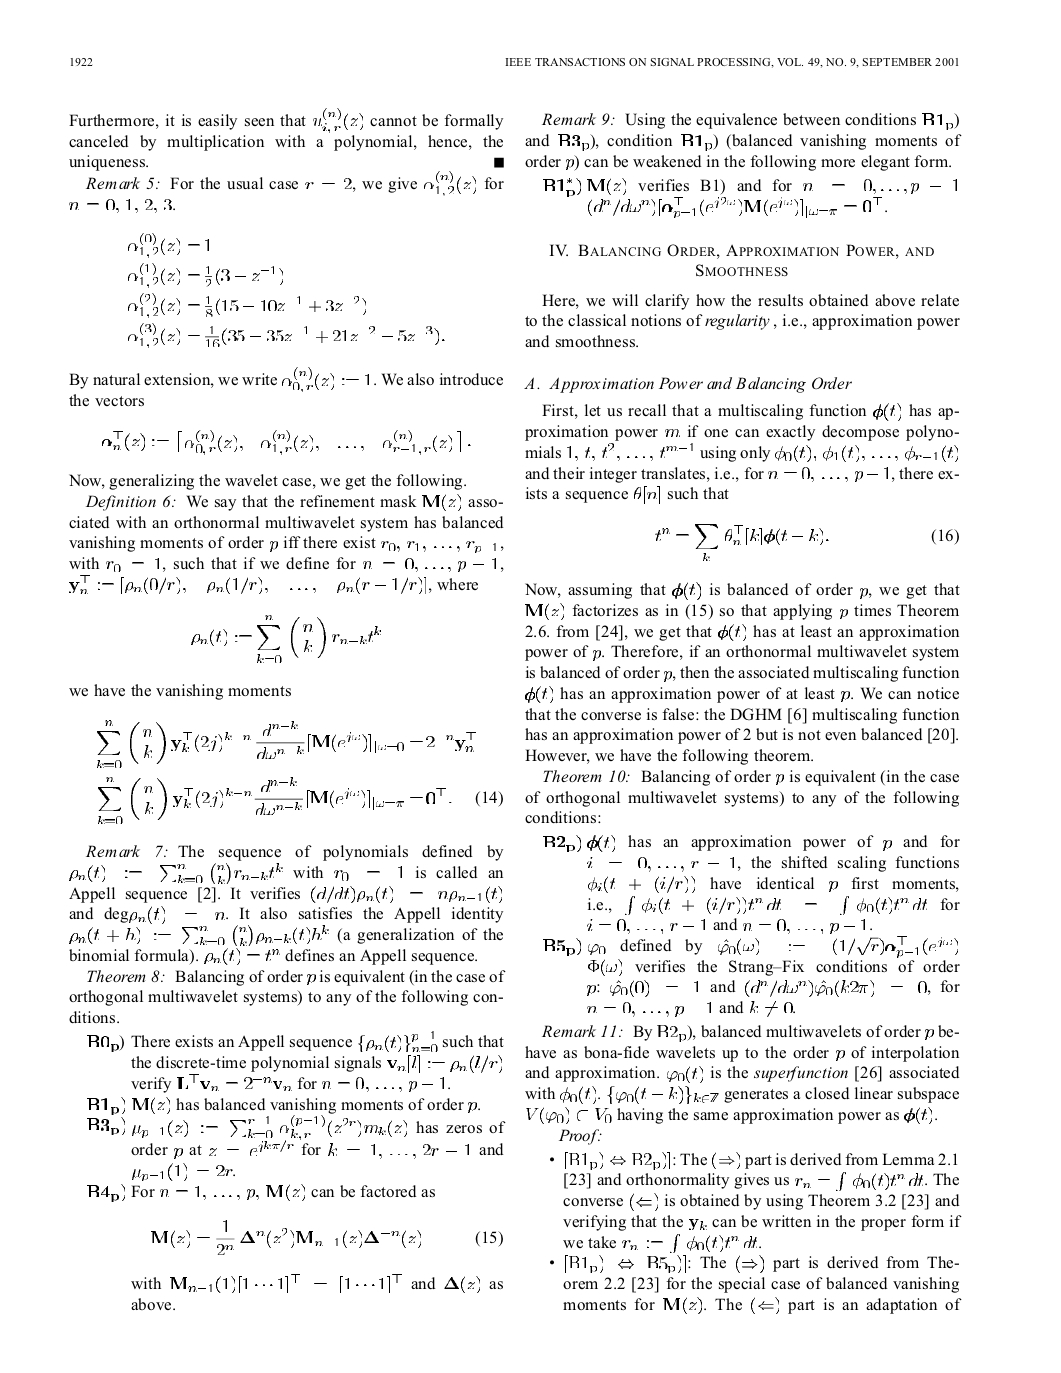formula: (98, 775, 502, 824), (97, 719, 475, 768), (150, 1219, 502, 1255), (103, 429, 470, 455), (191, 614, 380, 663), (655, 522, 958, 549), (128, 322, 444, 348), (128, 292, 366, 318), (588, 197, 886, 217), (132, 1074, 449, 1092), (128, 262, 282, 288), (128, 232, 208, 259), (132, 1162, 234, 1181)
